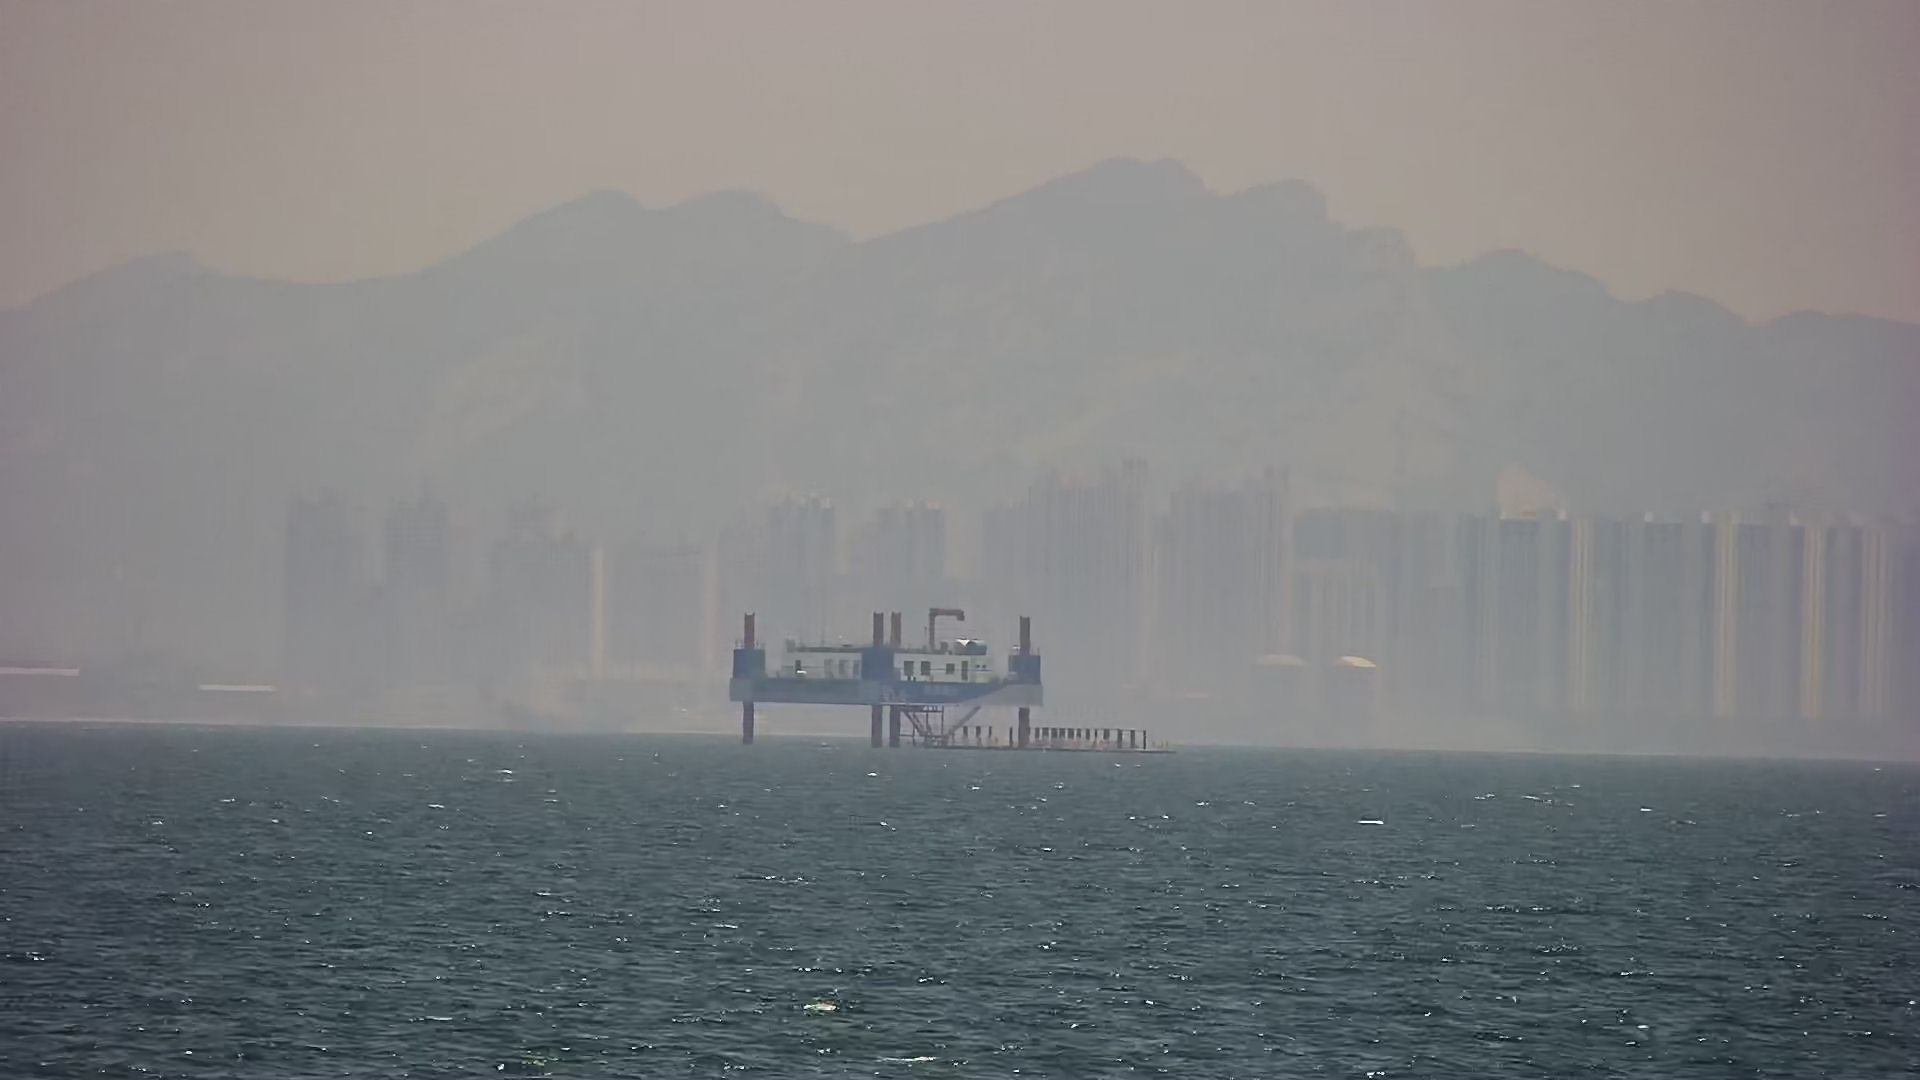platform: (713, 593, 1160, 758)
